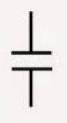Capacitor: (7, 33, 56, 83)
